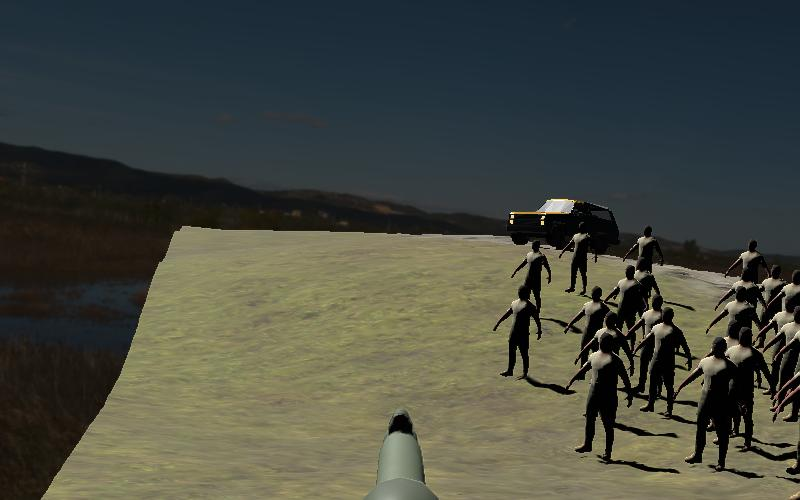Human: (672, 327, 765, 474), (564, 332, 636, 465), (631, 294, 694, 420)
car: (503, 192, 623, 254)
